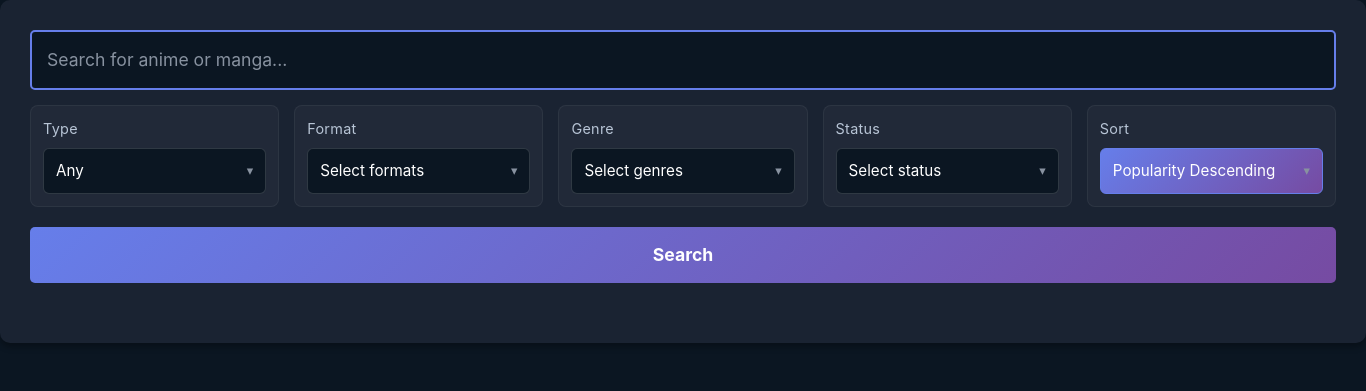
it: Search Component › Type Filter › selects type option
Step 1. Click the button with test id "type-filter-button" → point(155, 171), box [43,148,266,194]
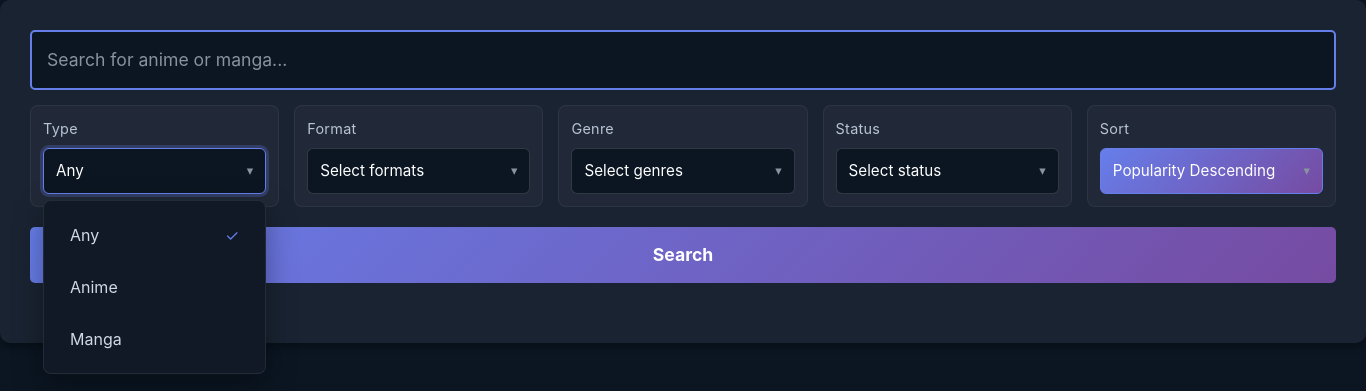
Step 2. Click the button "Anime" → point(155, 287), box [60,269,249,305]
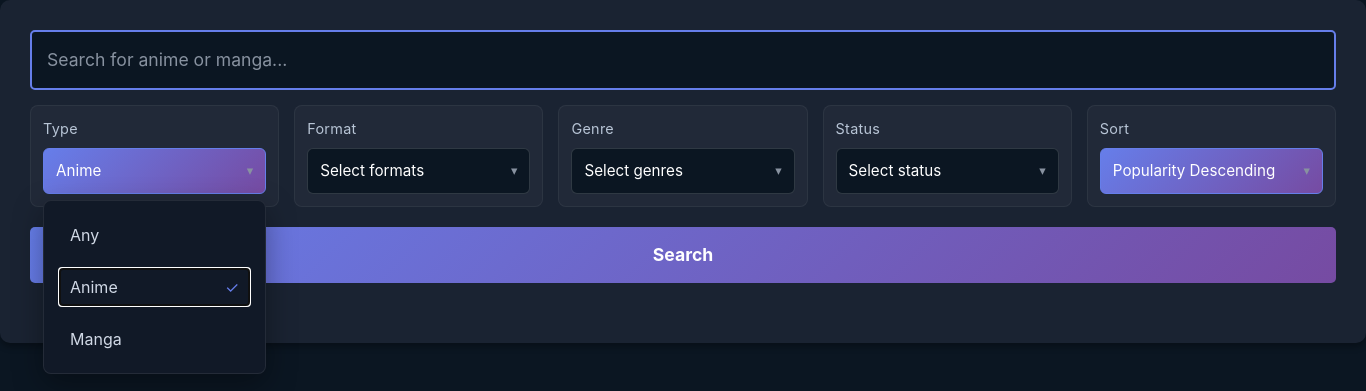
Result: the button with test id "type-filter-button" shows "Anime" at [43,148,266,194]
